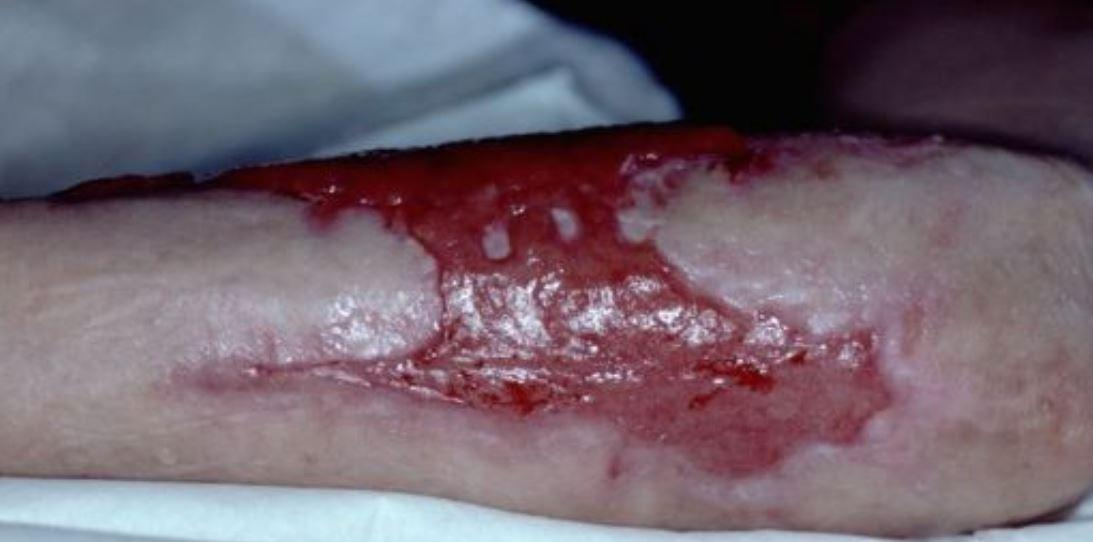NonPU: (54, 135, 962, 489)
